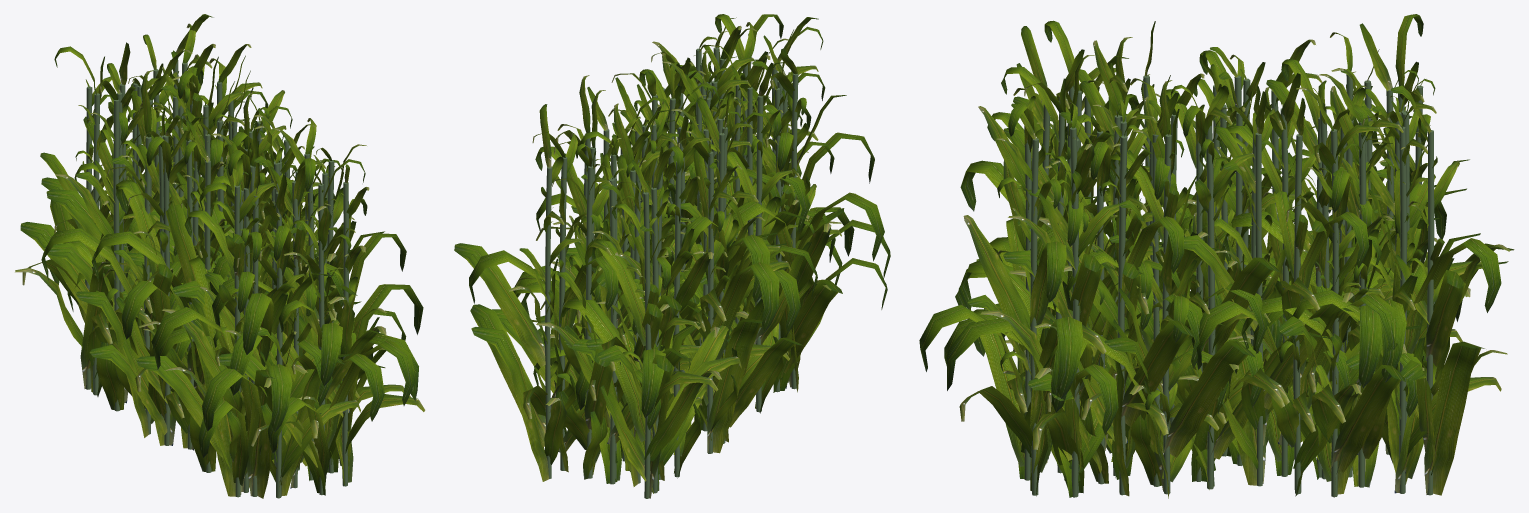
File: milharal3x9_denso4.fbx
The picture shows the model from 3 angles, left to right: view 1: azimuth 30°, elevation 25°; view 2: azimuth 150°, elevation 25°; view 3: azimuth 270°, elevation 25°; orthographic projection. The views are drawn at different scales.
Visible parts, largest first — view 1: Plantacao2; view 2: Plantacao2; view 3: Plantacao2.
Part boxes in pixels (<box>): Plantacao2: <box>15,14,425,498</box>; Plantacao2: <box>454,14,890,498</box>; Plantacao2: <box>919,14,1514,498</box>.
Bounding box in the file's own units: 812 × 1038 × 1313.
